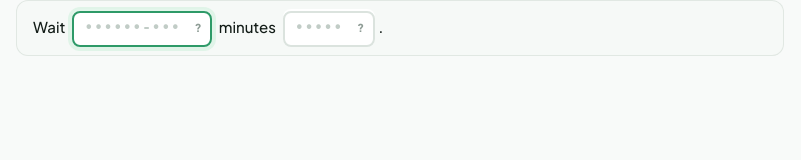
Test: FillInBlanksDictation › hides remaining mask bullets when a shorter valid equivalent is entered
Check: the element with class "font-mono" reads "••••••-•••", box [84,19,180,37]
Type "21" into the field named "Blank 1". click: (142,29)
box: [72,11,212,47]
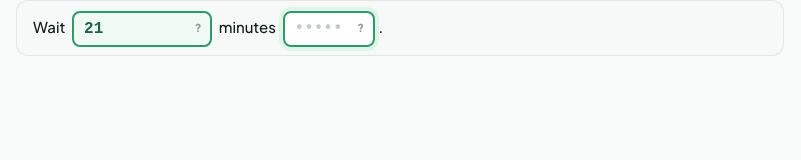
Check: the element with class "font-mono" no longer shows "•"
